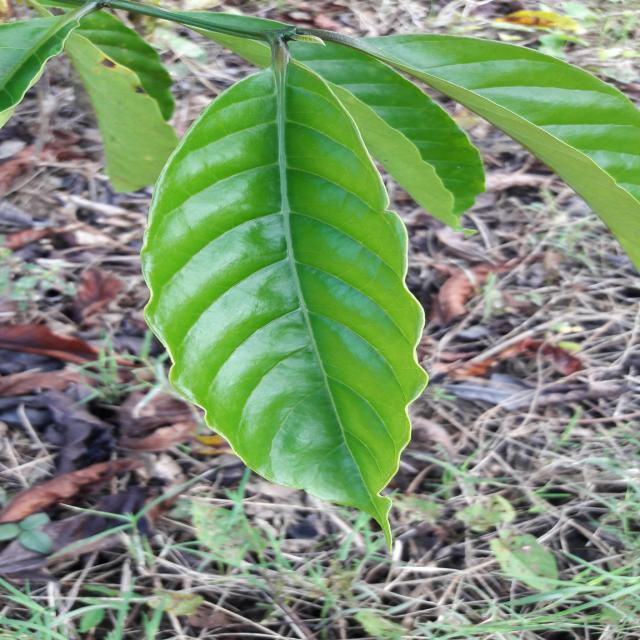Sanas: (141, 42, 428, 520)
